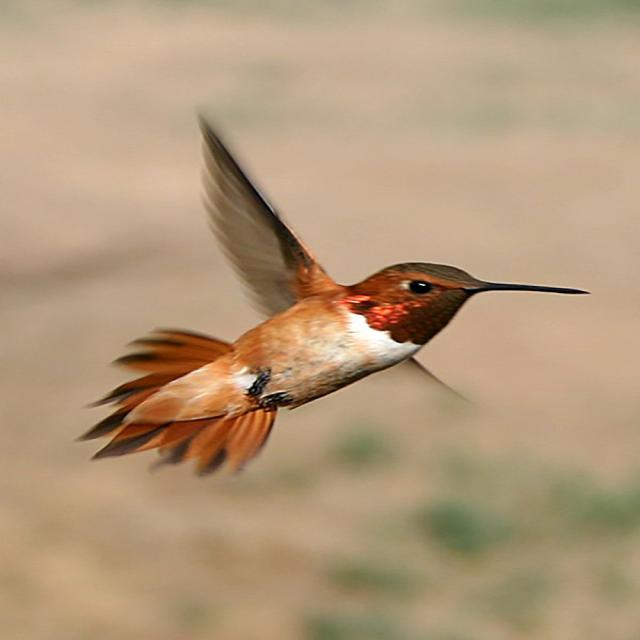Humming Bird: (88, 116, 590, 476)
